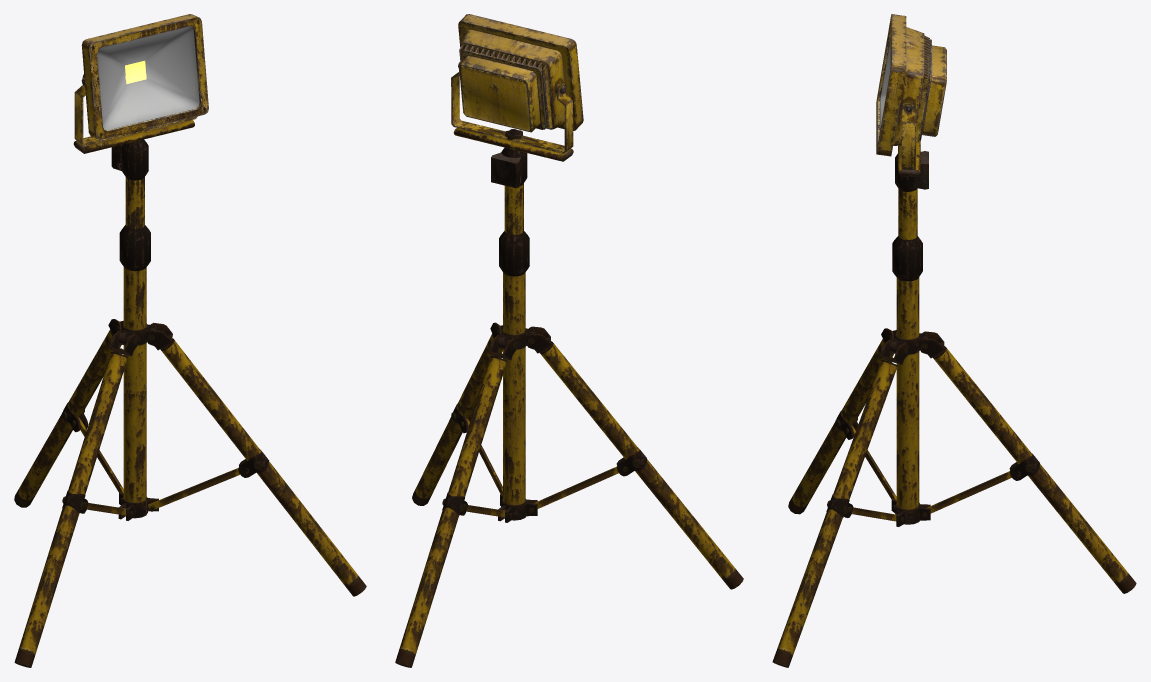
The model's file is lightprojector.glb.
3 views of the same model, side by side, from view 1: azimuth 30°, elevation 25°; view 2: azimuth 150°, elevation 25°; view 3: azimuth 270°, elevation 25° (orthographic).
Visible parts, largest first — view 1: projector.002; view 2: projector.002; view 3: projector.002.
Boxes of the visible parts, x1,y1,x2,y2 form: projector.002: (14, 14, 366, 667); projector.002: (395, 14, 743, 667); projector.002: (772, 14, 1136, 667).
Bounding box in the file's own units: 0.6483 × 1.02 × 0.607.
2 materials, 2 textured.
